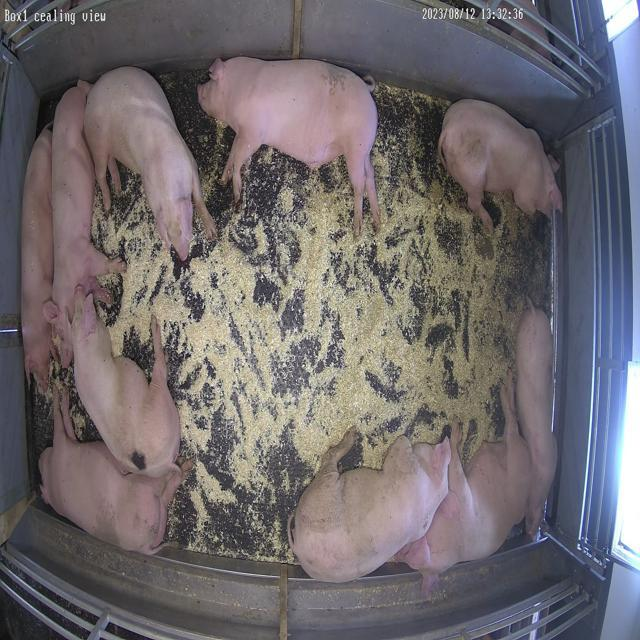Dirt: (476, 194, 551, 430), (372, 80, 468, 224)
Pig: (198, 56, 380, 234), (395, 373, 532, 578), (84, 67, 215, 260), (289, 429, 452, 584), (38, 391, 183, 554), (43, 81, 124, 367), (71, 294, 180, 478), (439, 99, 563, 230), (516, 306, 559, 538), (20, 127, 53, 390)
